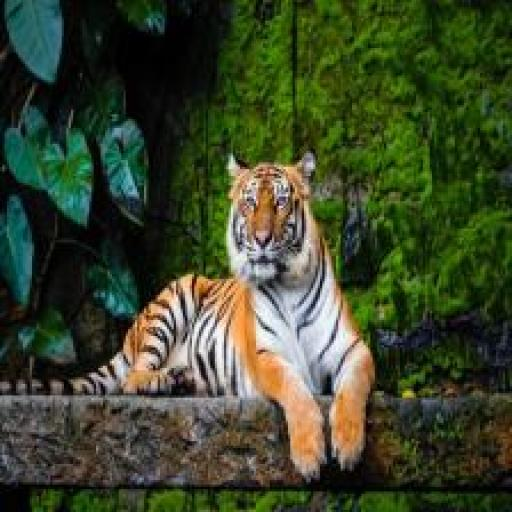Tiger: (44, 132, 386, 487)
